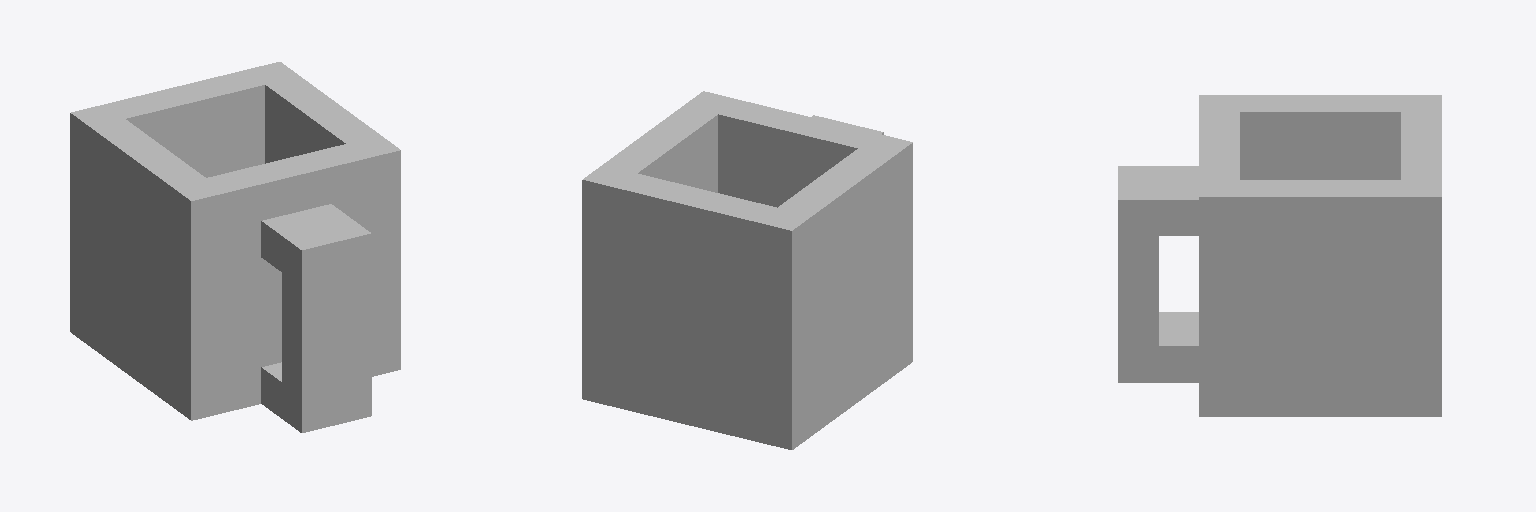
File: Cup.obj
3 renders of one model, left to right at view 1: azimuth 30°, elevation 25°; view 2: azimuth 150°, elevation 25°; view 3: azimuth 270°, elevation 25°, orthographic.
Visible parts, largest first — view 1: object 1; view 2: object 1; view 3: object 1.
Part boxes in pixels (bbox=[...]): object 1: bbox=[70, 62, 400, 432]; object 1: bbox=[582, 91, 912, 449]; object 1: bbox=[1118, 95, 1441, 416].
Size of the model in its own units: 0.6 by 0.6 by 0.8.